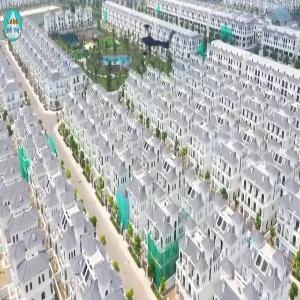drone: (129, 16, 186, 73)
